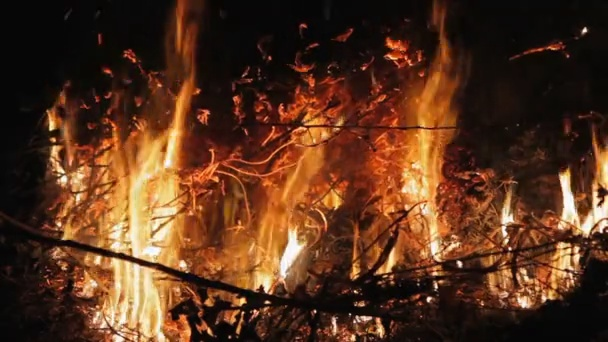fire: (49, 104, 183, 342), (248, 145, 324, 292), (404, 70, 447, 257), (552, 154, 608, 285), (500, 191, 515, 253)
